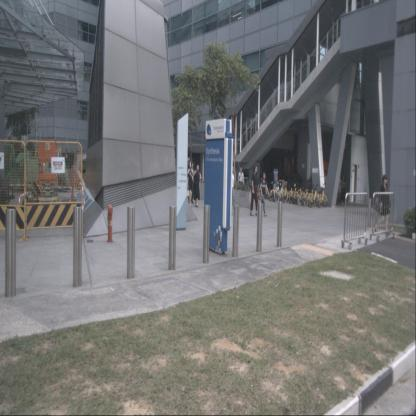cone: (68, 187, 77, 215)
